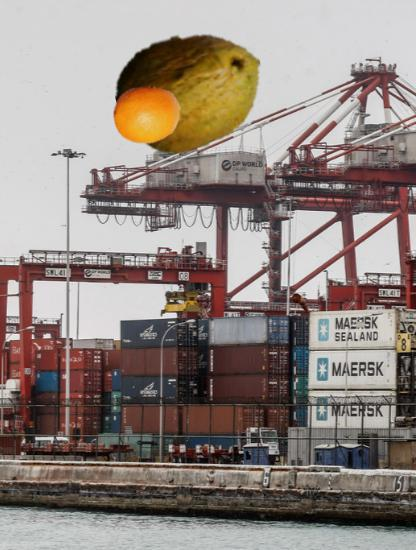Lemon: (112, 80, 182, 150)
Papaya: (116, 17, 266, 167)
